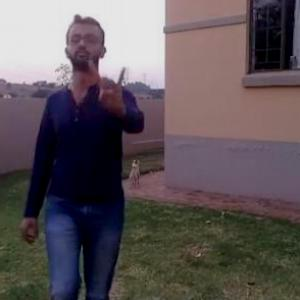takeoff-hand: (86, 57, 132, 114)
